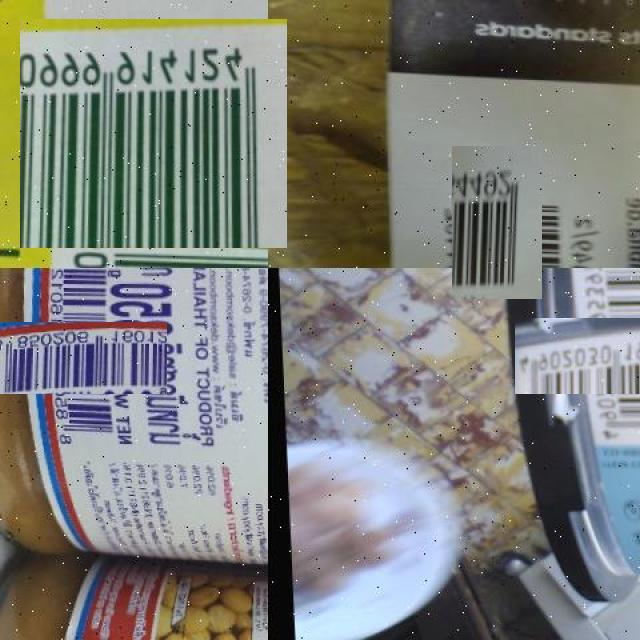Barcode: (29, 10, 278, 258), (15, 295, 140, 421), (435, 162, 558, 283), (539, 293, 640, 419)
